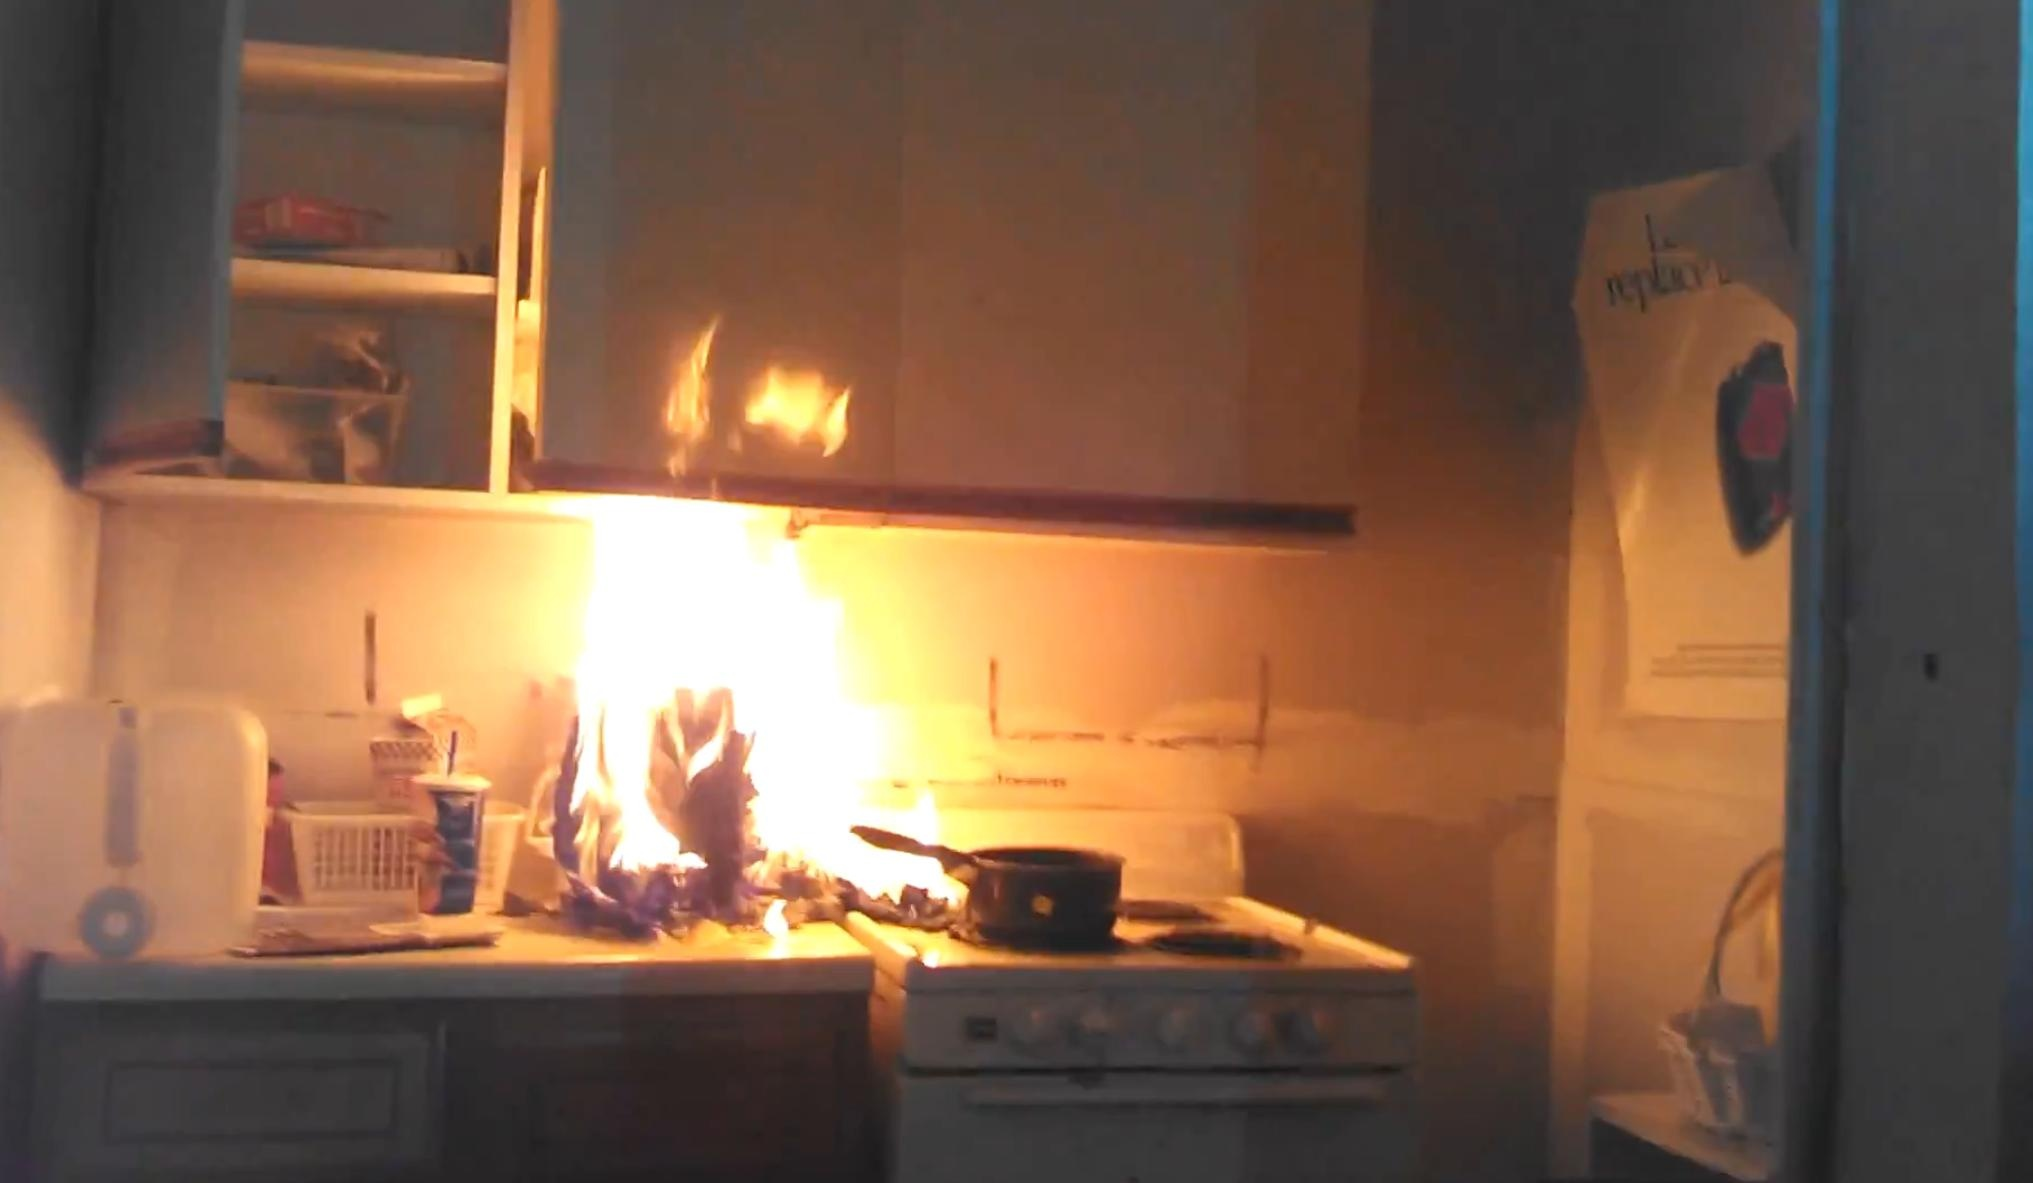fire: (549, 337, 957, 939)
